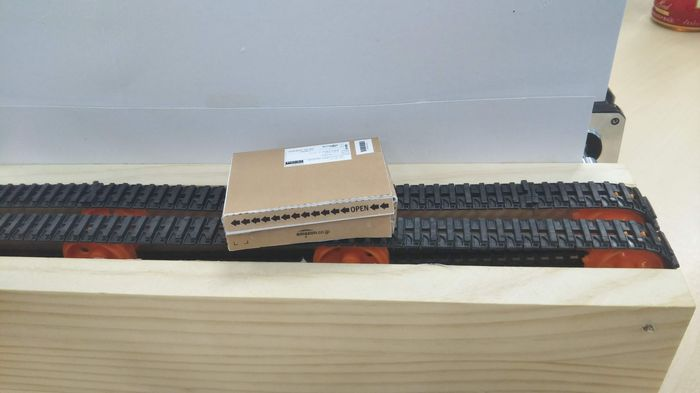box2: (218, 132, 400, 257)
